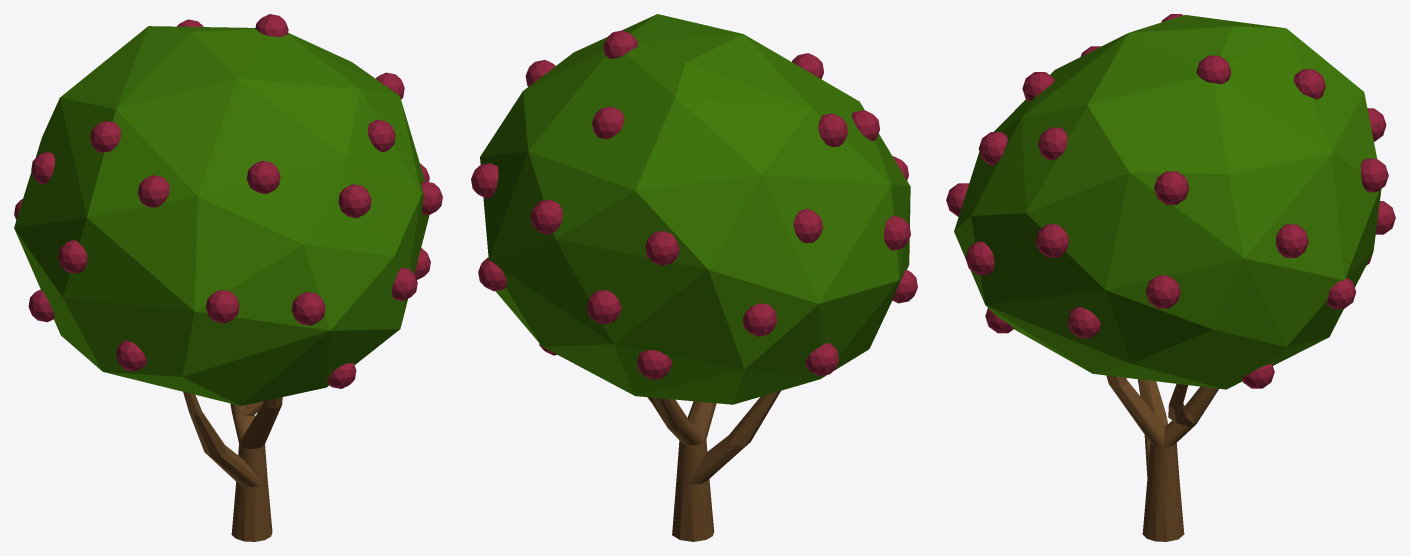
Rendered from Bush2.fbx.
The picture shows the model from 3 angles, left to right: view 1: azimuth 30°, elevation 25°; view 2: azimuth 150°, elevation 25°; view 3: azimuth 270°, elevation 25°; orthographic projection. The views are drawn at different scales.
Visible parts, largest first — view 1: Bush, Trunk, Berry.004, Berry.023, Berry.024, Berry.015, Berry.007, Berry.020, Berry.016, Berry.017, Berry.005, Berry.001 (+5 smaller); view 2: Bush, Trunk, Berry.019, Berry.011, Berry.009, Berry.022, Berry.010, Berry.021, Berry.018, Berry.020, Berry.008, Berry.003 (+5 smaller); view 3: Bush, Trunk, Berry.006, Berry, Berry.003, Berry.014, Berry.002, Berry.012, Berry.022, Berry.001, Berry.005, Berry.010 (+4 smaller).
Part boxes in pixels (x1,y1,x2,y2): Bush: (14,26,429,405); Trunk: (183,392,282,541); Berry.004: (291,292,325,325); Berry.023: (206,290,239,323); Berry.024: (338,184,371,218); Berry.015: (246,160,280,193); Berry.007: (137,175,169,207); Berry.020: (90,120,120,152); Berry.016: (58,239,87,273); Berry.017: (116,340,146,371); Berry.005: (367,120,395,151); Berry.001: (392,267,417,301); Bush: (480,14,910,404); Trunk: (647,391,780,541); Berry.019: (645,231,679,265); Berry.011: (586,290,621,324); Berry.009: (743,303,777,336); Berry.022: (530,199,562,234); Berry.010: (592,106,624,139); Berry.021: (637,350,672,379); Berry.018: (805,343,838,376); Berry.020: (818,113,847,146); Berry.008: (793,208,822,243); Berry.003: (471,163,498,198); Bush: (954,15,1381,389); Trunk: (1106,375,1218,541); Berry.006: (1154,171,1189,204); Berry: (1146,275,1180,308); Berry.003: (1276,224,1308,257); Berry.014: (1035,224,1068,257); Berry.002: (1067,307,1100,338); Berry.012: (1196,55,1231,83); Berry.022: (1360,158,1388,192); Berry.001: (965,241,994,274); Berry.005: (1038,127,1067,160); Berry.010: (1293,69,1325,99).
Bounding box in the file's own units: 88.6 × 111 × 90.37.
